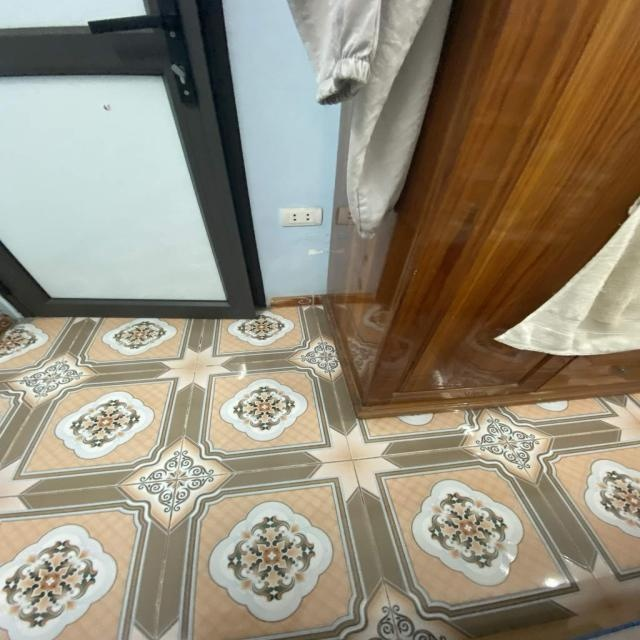outlet: (280, 207, 323, 227)
